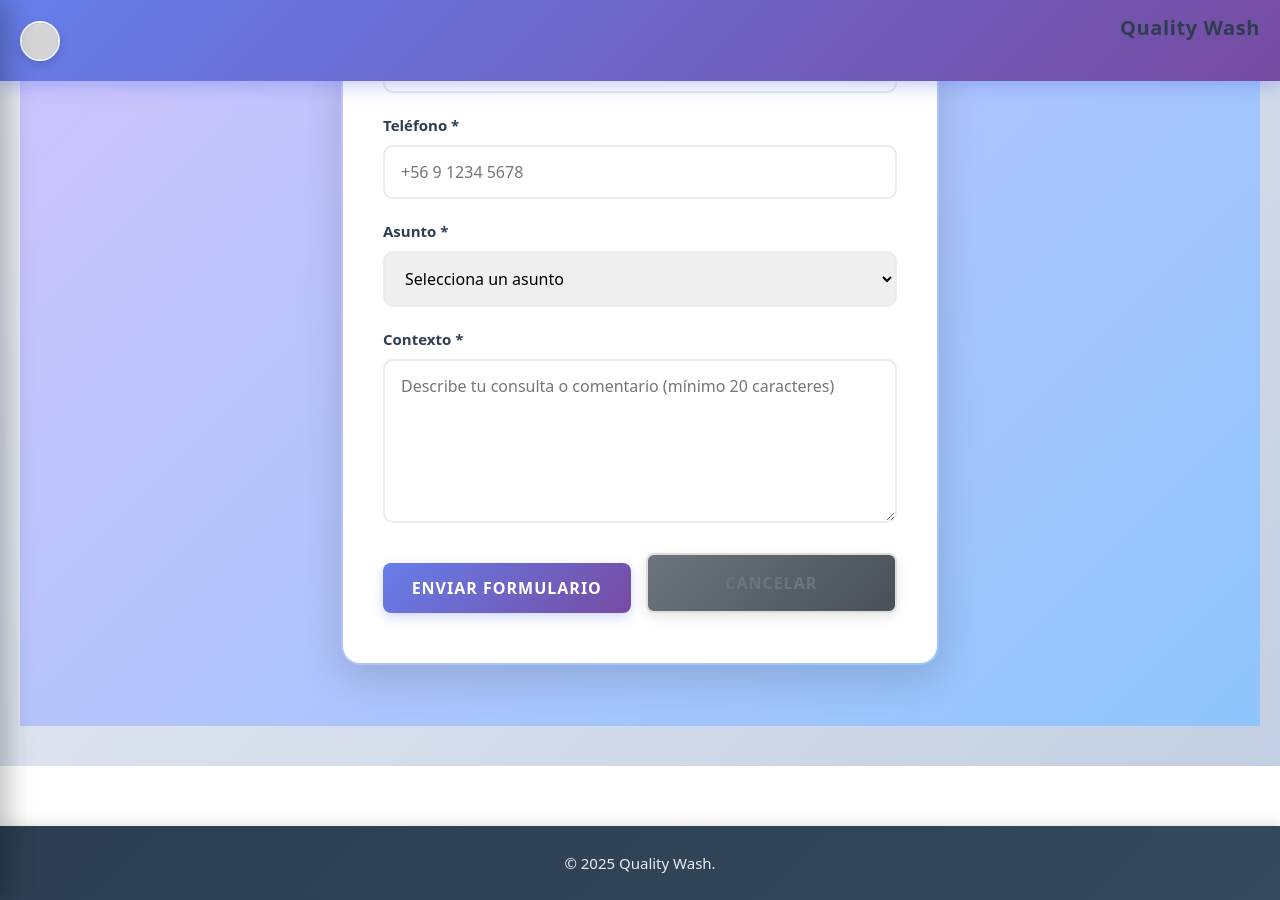
Test: Contacto Component › Validación de campos vacíos › muestra error cuando el asunto no está seleccionado
(page scrolled)
Click the button "Enviar Formulario": x=507, y=588 [383,563,630,613]
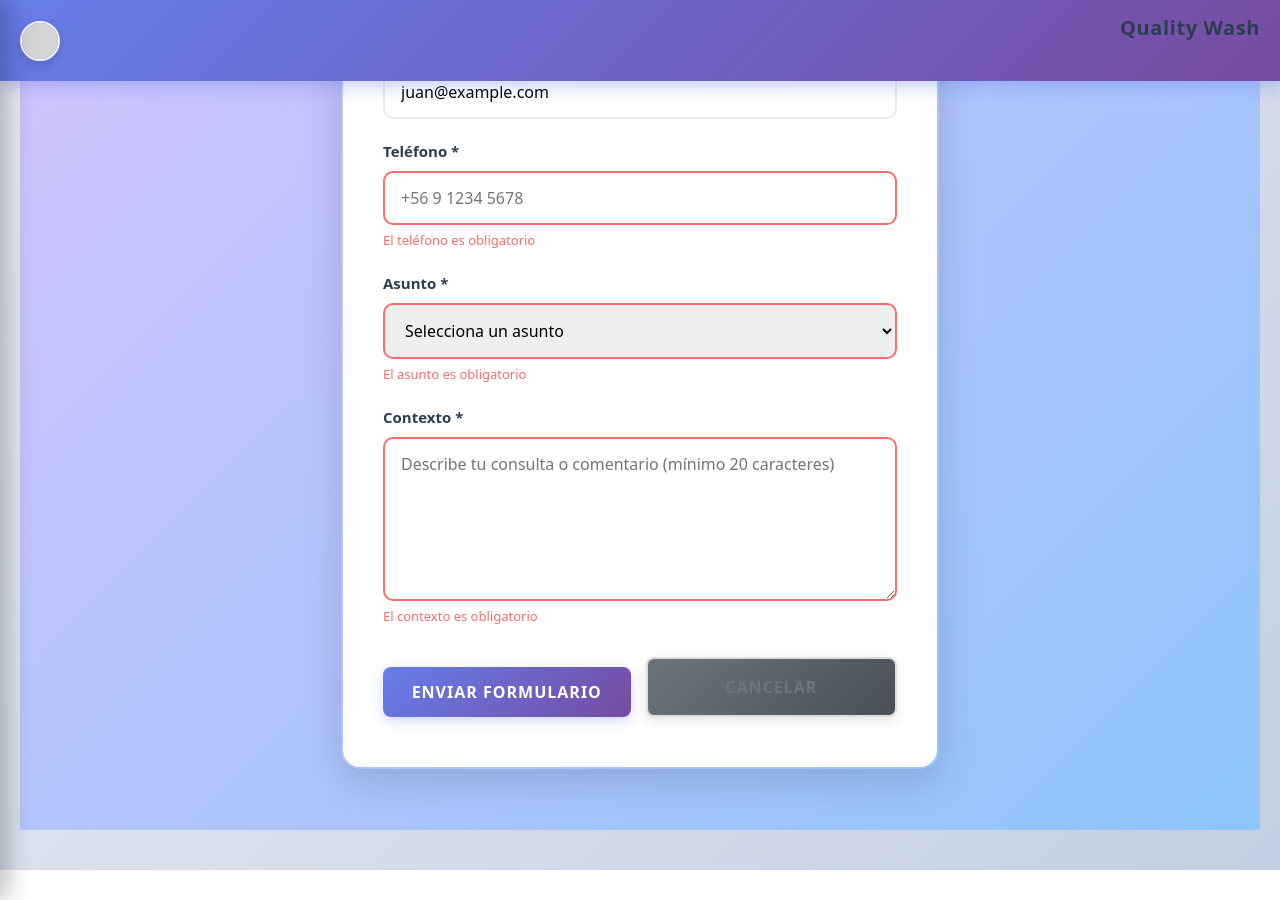
Expected: the text "El asunto es obligatorio" is shown, [383,365,526,383]
